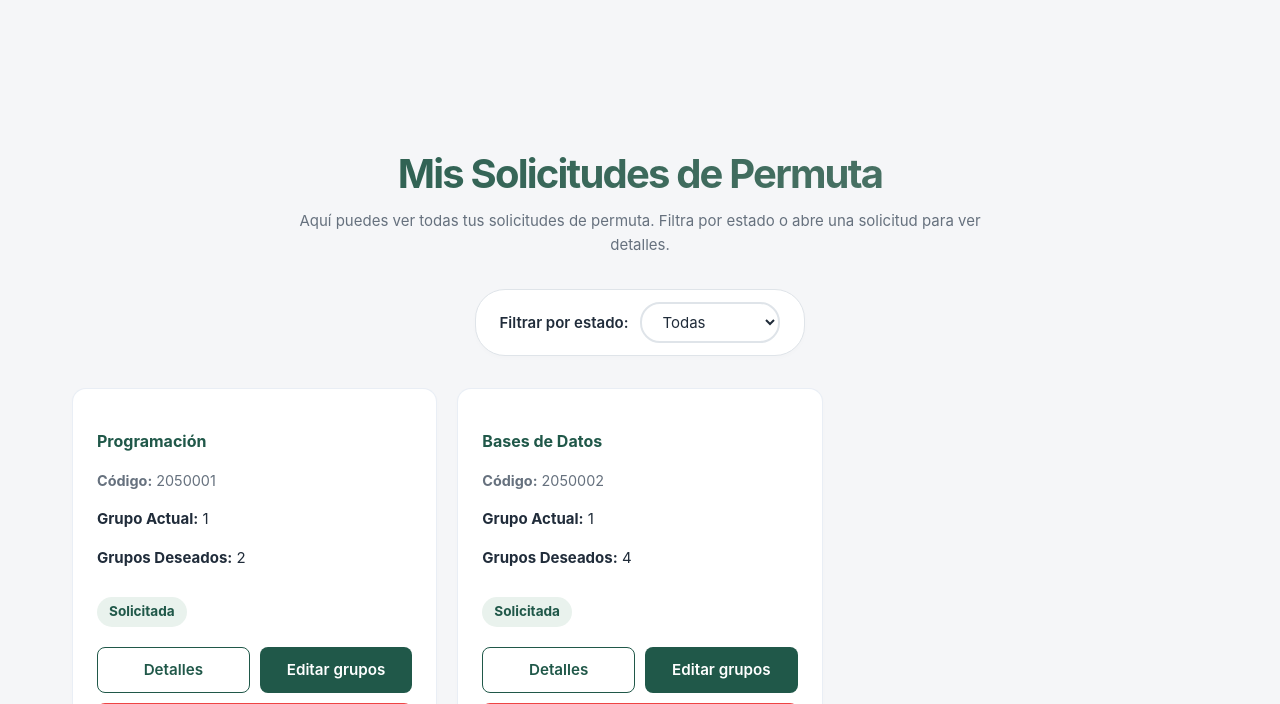
Scenario: edición de grupos deseados › descarta una carga antigua si se cierra y se abre otra solicitud
Click the button "Editar grupos" below "2050001": (336, 670) [260,647,412,693]
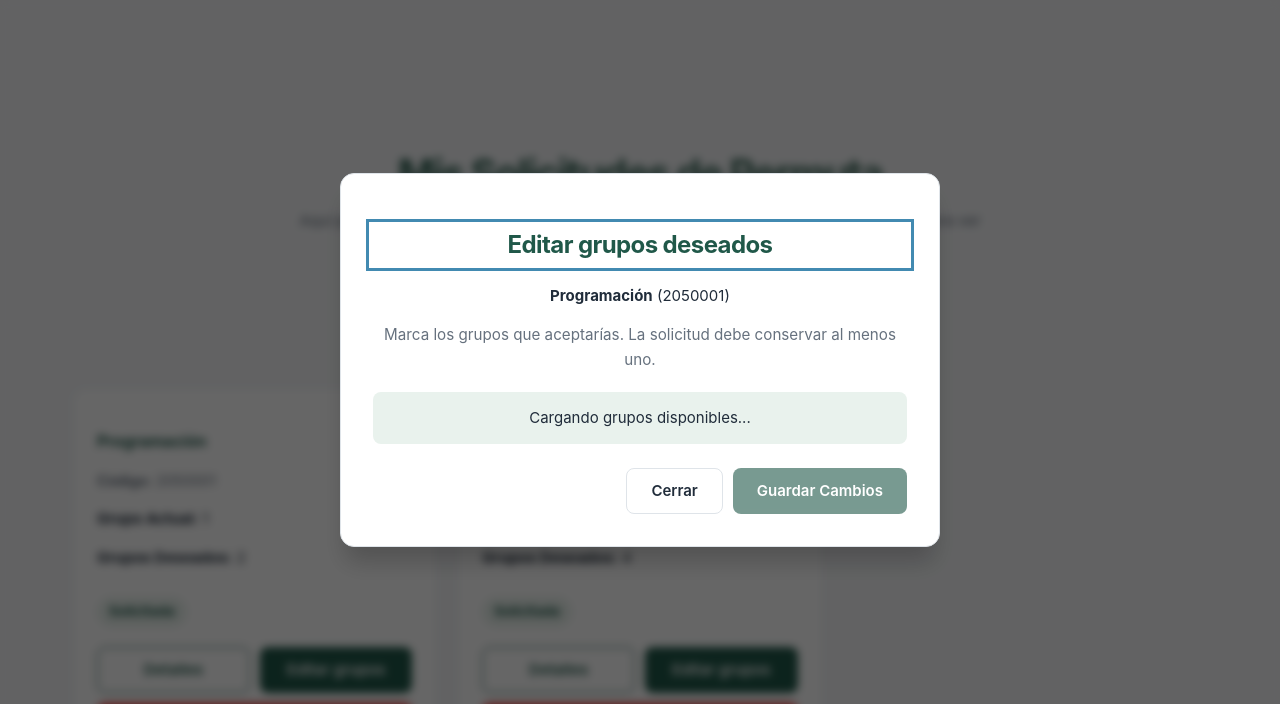
Click the button "Cerrar": (675, 491) [626,468,723,514]
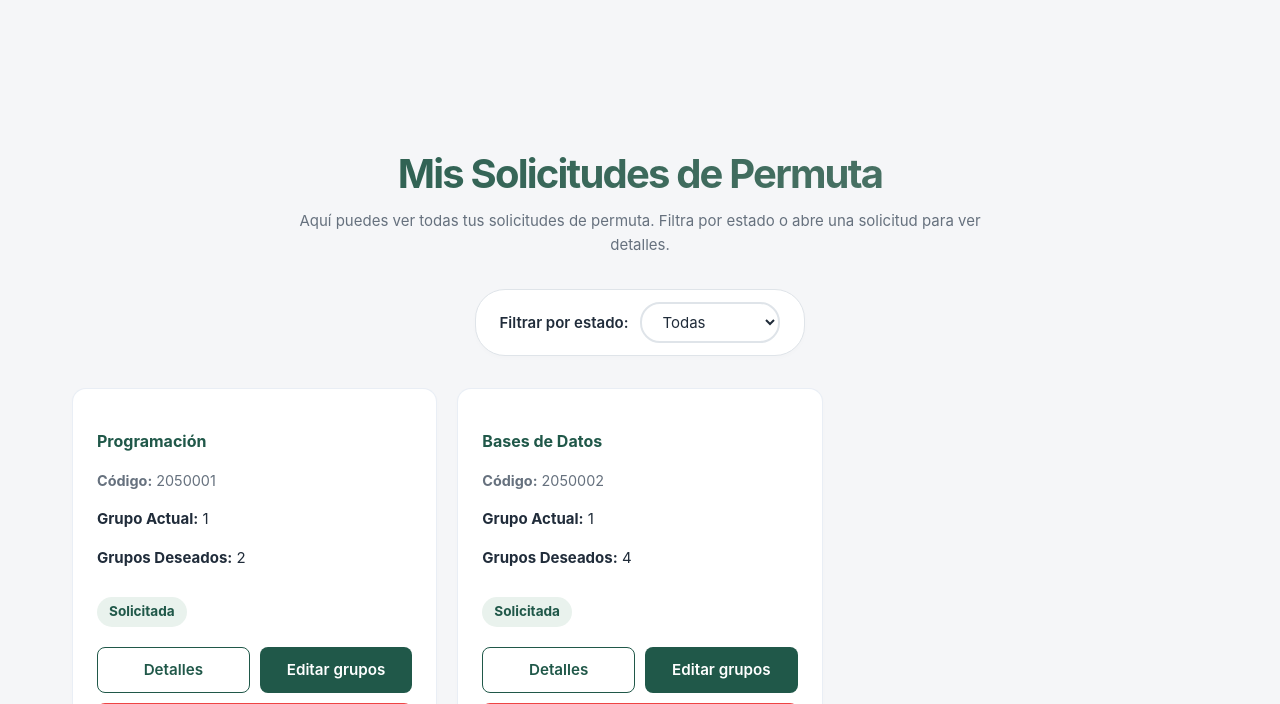
Click the button "Editar grupos" below "2050002": (721, 670) [645,647,798,693]
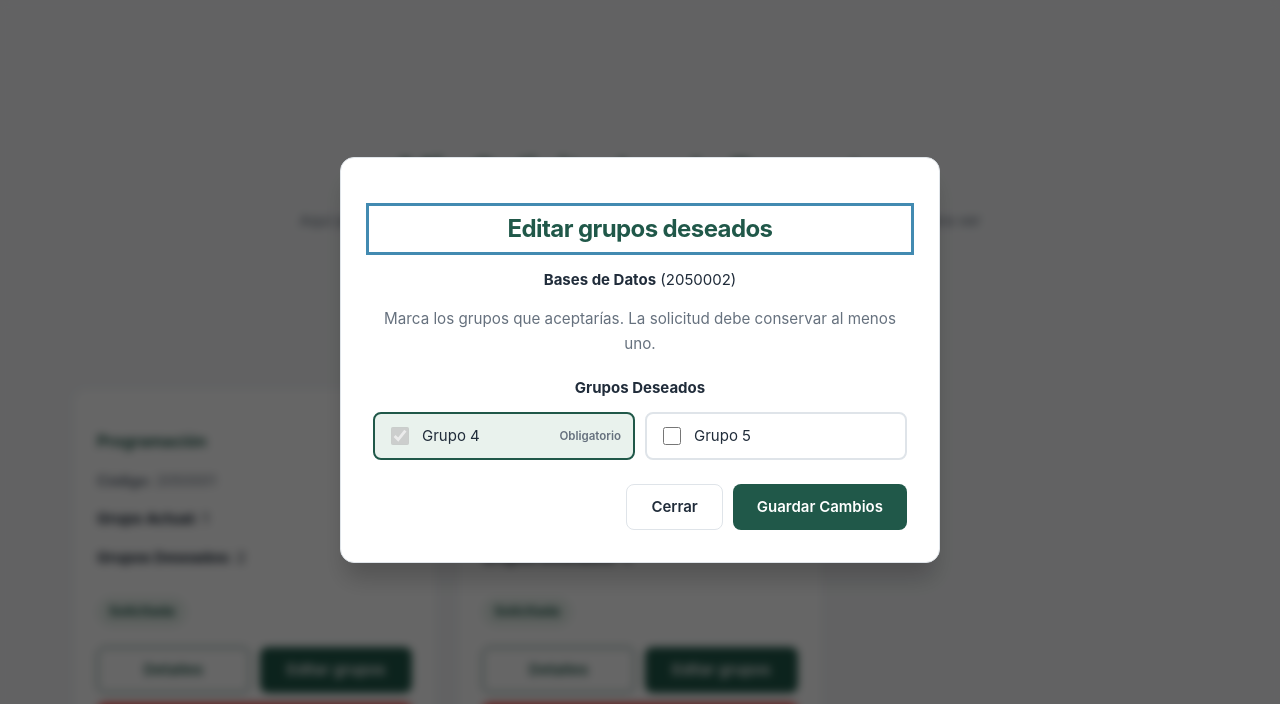
Result: the checkbox labelled "Grupo 4 Obligatorio" is checked at [391,427,409,445]
